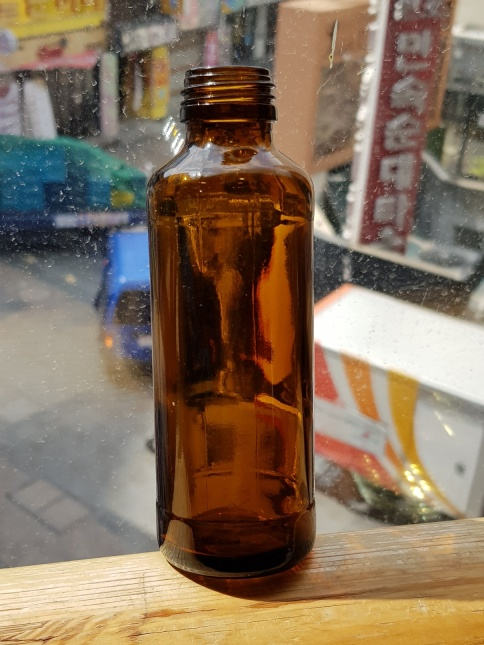Glass: (140, 62, 327, 584)
